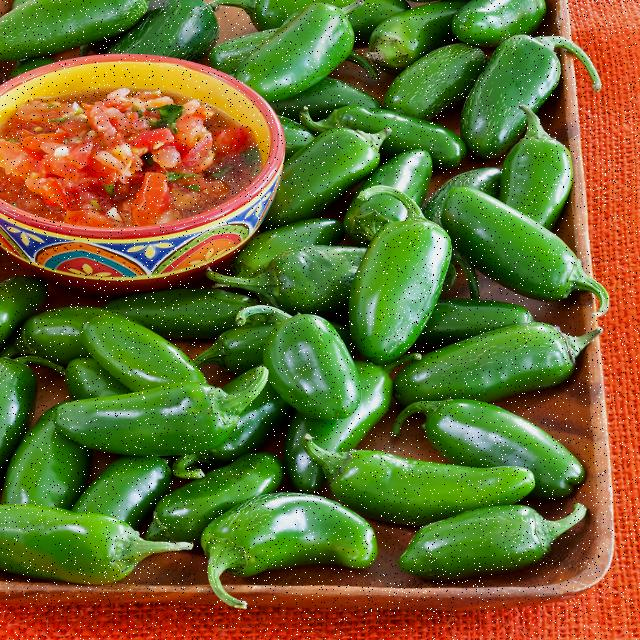Chili Pepper: (305, 165, 522, 397), (281, 0, 577, 163), (17, 356, 325, 500), (356, 430, 578, 584)
